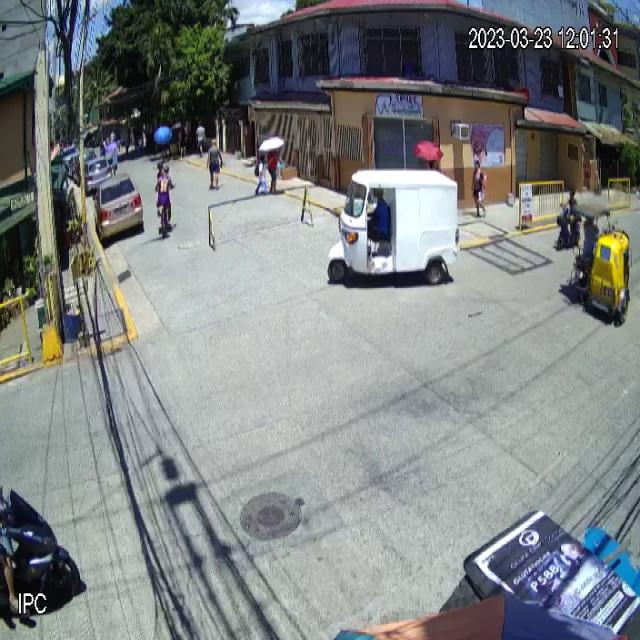Car: (92, 171, 144, 244)
Tricycle: (568, 200, 633, 325)
